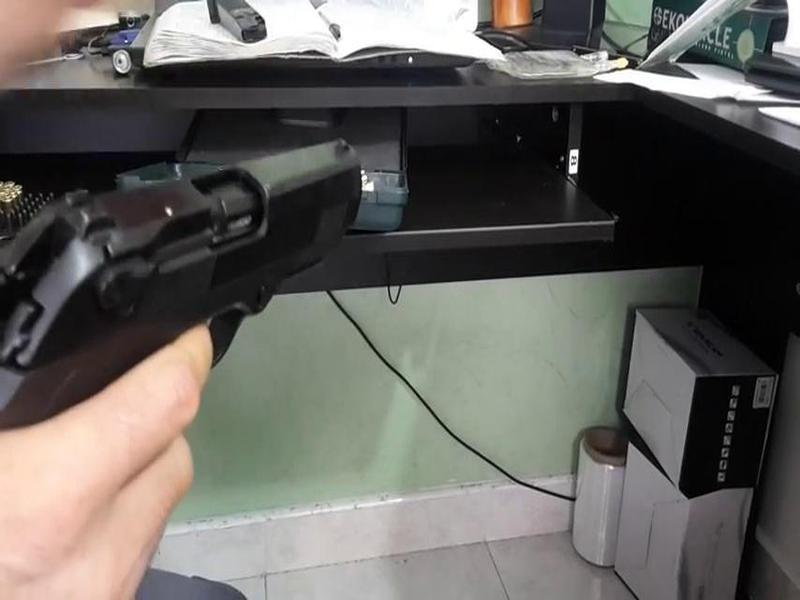Pistola: (12, 130, 367, 411)
